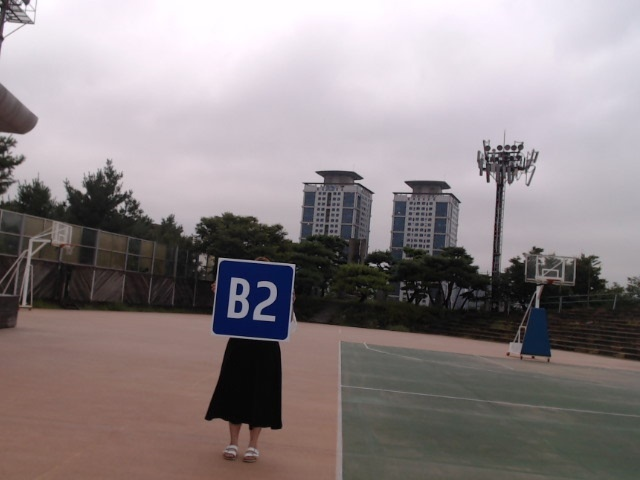delivery_b2: (210, 259, 295, 341)
